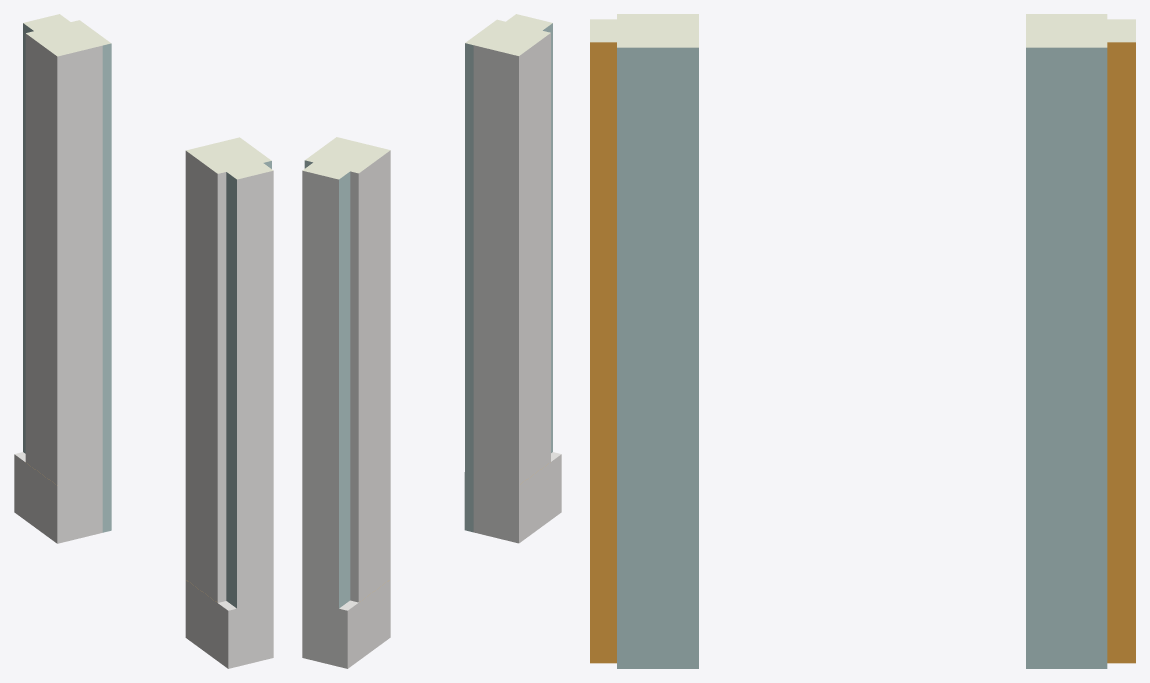
File: DoorW_3.fbx
3 views of the same model, side by side, from view 1: azimuth 30°, elevation 25°; view 2: azimuth 150°, elevation 25°; view 3: azimuth 270°, elevation 25° (orthographic). The views are drawn at different scales.
Parts seen in each view (by area): view 1: Cube.100; view 2: Cube.100; view 3: Cube.100.
Part boxes in pixels (box(x1,y1,x2,y2)): Cube.100: box(14, 14, 273, 668); Cube.100: box(302, 14, 561, 668); Cube.100: box(590, 14, 1135, 668).
Size of the model in its own units: 29.29 by 251 by 200.
Materials: 1 (1 with a texture image).
